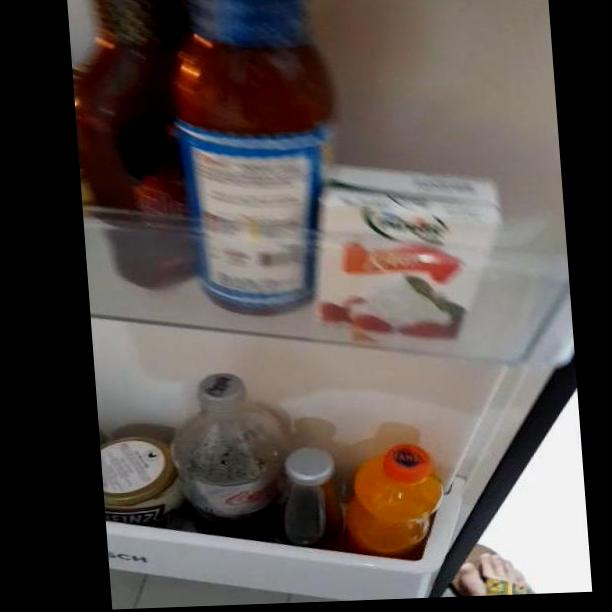cream: (312, 156, 500, 338)
sauce: (74, 0, 326, 306)
